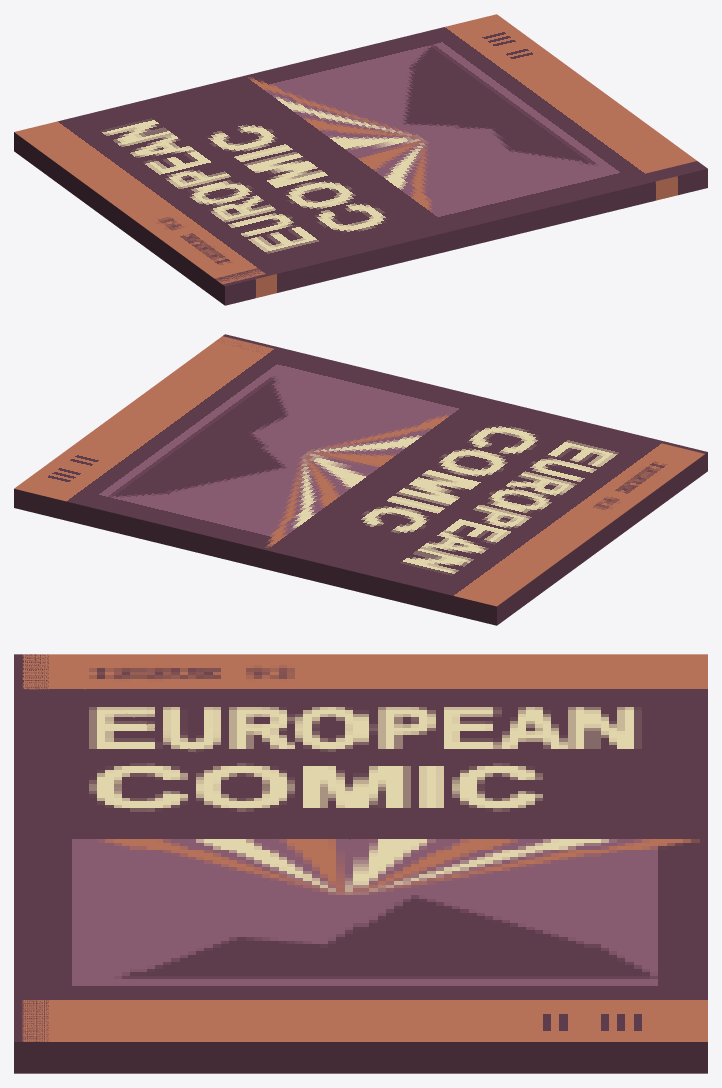
File: european_comic.glb
3 views of the same model, one above another, from view 1: azimuth 30°, elevation 25°; view 2: azimuth 150°, elevation 25°; view 3: azimuth 270°, elevation 25° (orthographic). The views are drawn at different scales.
Parts seen in each view (by area): view 1: block_front, block_spine, block_back; view 2: block_front, block_back, block_spine; view 3: block_front, block_back, block_spine.
Boxes of the visible parts, x1,y1,x2,y2 form: block_front: [14, 14, 696, 293]; block_spine: [214, 161, 707, 305]; block_back: [14, 142, 222, 302]; block_front: [14, 336, 705, 615]; block_back: [14, 464, 705, 625]; block_spine: [218, 334, 707, 472]; block_front: [22, 654, 707, 1057]; block_back: [22, 1057, 707, 1073]; block_spine: [14, 654, 48, 1073].
Bounding box in the file's own units: 0.32 × 0.0122 × 0.2423.
Materials: 1 (1 with a texture image).
